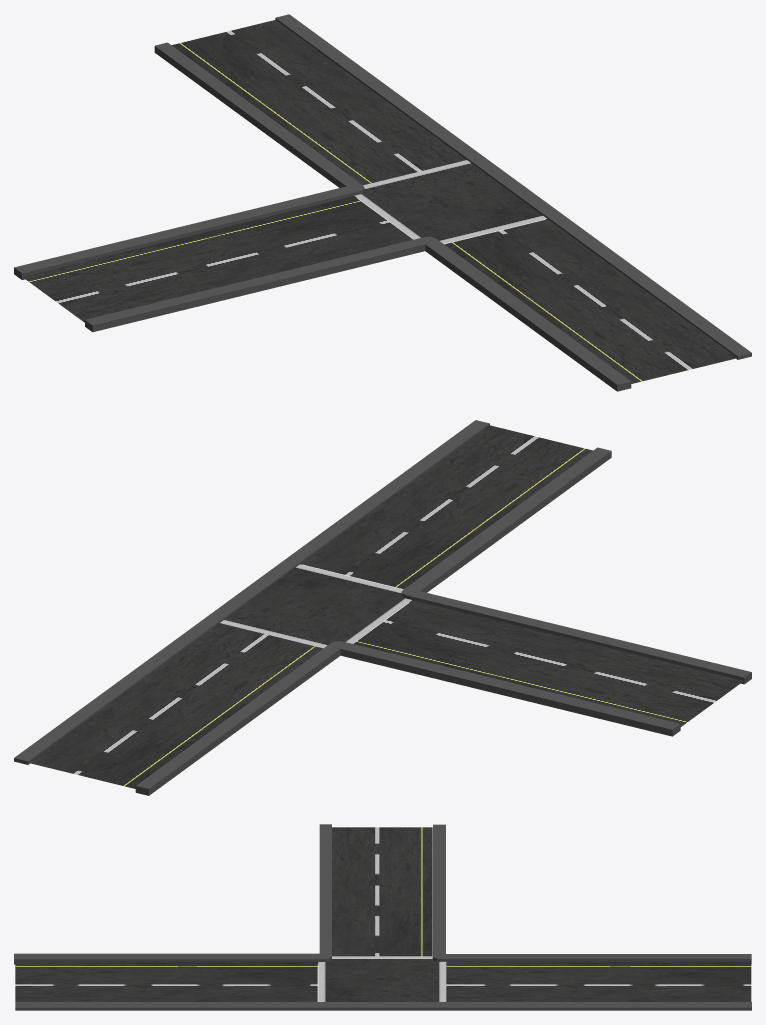
The model's file is 2-Lane-Three-way-intersection_RIGHT.fbx.
3 views of the same model, one above another, from view 1: azimuth 30°, elevation 25°; view 2: azimuth 150°, elevation 25°; view 3: azimuth 270°, elevation 25° (orthographic). The views are drawn at different scales.
Visible parts, largest first — view 1: polySurface30, polySurface31, polySurface33, polySurface32, pCube39, pCube38, pCube37; view 2: polySurface30, polySurface31, polySurface33, polySurface32, pCube38, pCube39, pCube37; view 3: polySurface31, polySurface30, polySurface33, pCube37, polySurface32, pCube39, pCube38.
Part boxes in pixels (x1,y1,x2,y2): polySurface30: (171,20,466,185); polySurface31: (22,196,413,322); polySurface33: (444,219,737,383); polySurface32: (354,160,546,243); pCube39: (85,236,631,391); pCube38: (14,42,364,279); pCube37: (275,14,751,359); polySurface30: (29,623,323,788); polySurface31: (353,600,743,726); polySurface33: (301,425,592,589); polySurface32: (220,564,411,652); pCube38: (135,641,680,795); pCube39: (401,447,751,684); pCube37: (14,420,489,764); polySurface31: (332,827,432,956); polySurface30: (446,962,751,1001); polySurface33: (15,962,317,1001); pCube37: (15,1002,751,1010); polySurface32: (318,956,446,1001); pCube39: (14,824,331,964); pCube38: (433,824,751,963).
Size of the model in its own units: 134 by 1.88 by 231.
Materials: 3 (2 with a texture image).
